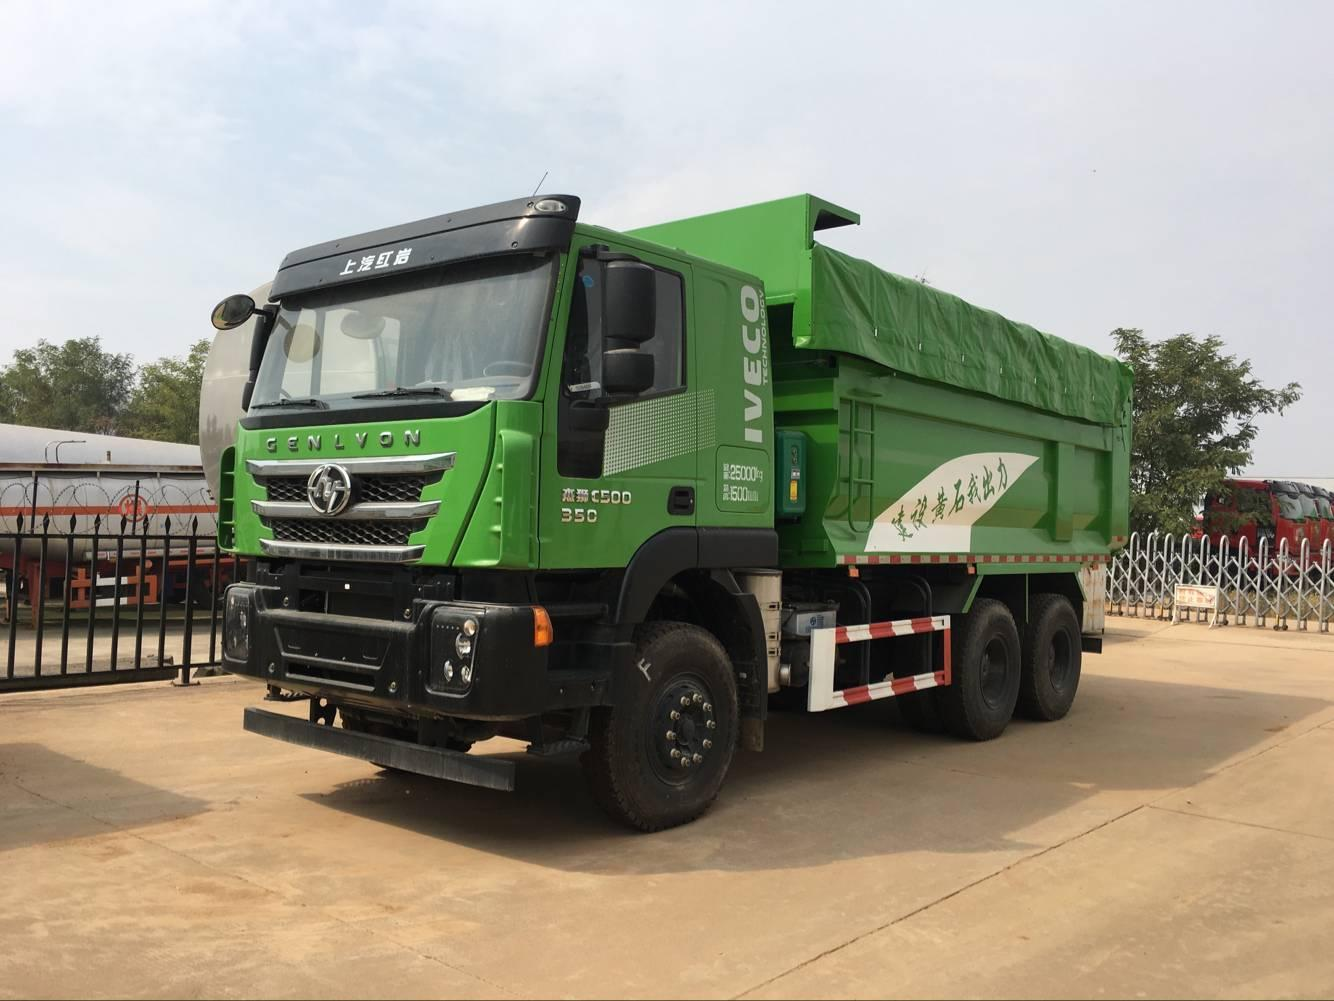truck: (173, 161, 1135, 826)
